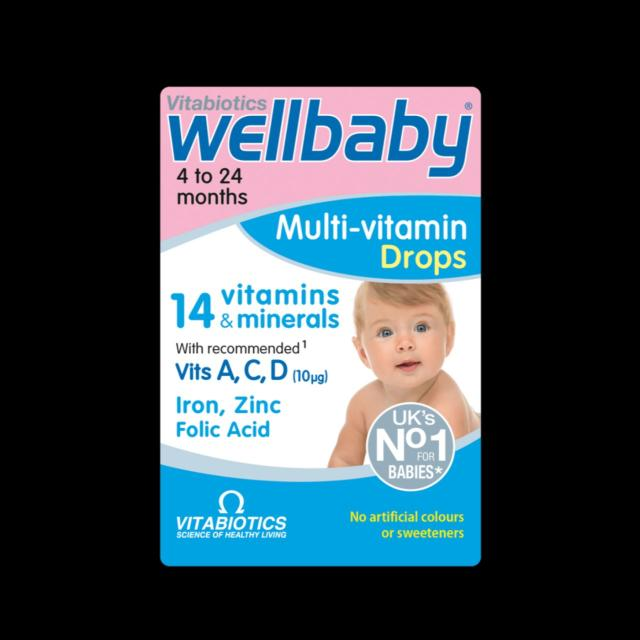mini-drop: (165, 95, 476, 562)
